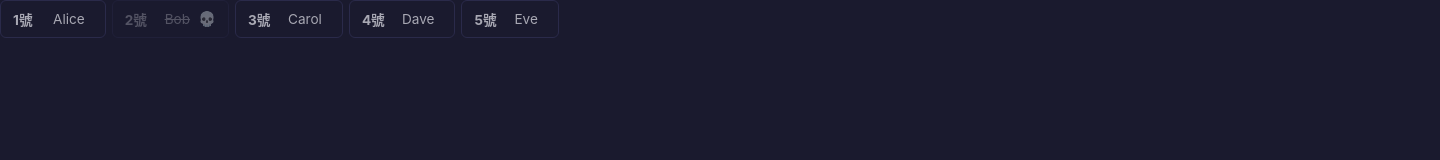
Test: PlayerSelector › double mode › should show hint after first selection
The width and height of the screenshot is (1440, 160).
Step 1. Click the text "Alice" → (69, 19), box [53, 11, 85, 27]
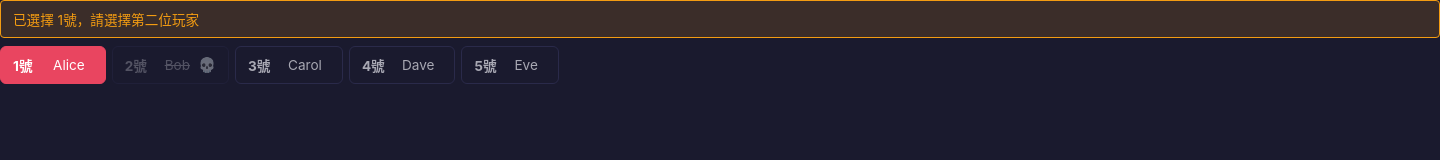
Expected: the text "已選擇 1號，請選擇第二位玩家" is shown, [0, 0, 1439, 38]
